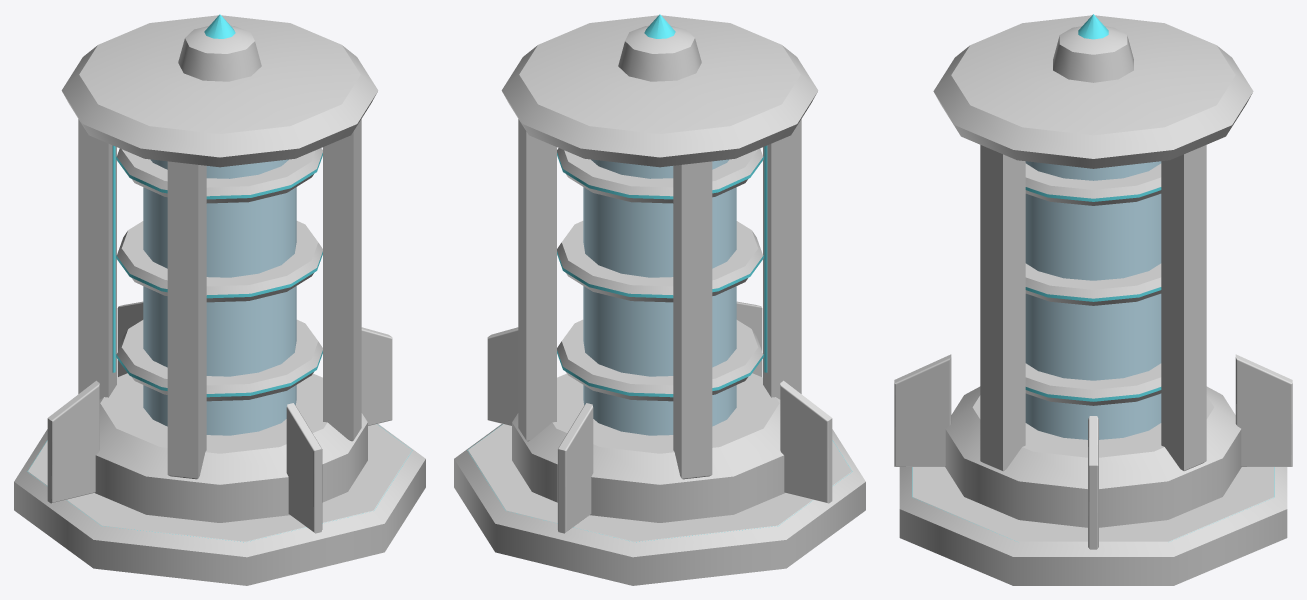
File: MiniReactor.glb
3 renders of one model, left to right at view 1: azimuth 30°, elevation 25°; view 2: azimuth 150°, elevation 25°; view 3: azimuth 270°, elevation 25°, orthographic.
Parts seen in each view (by area): view 1: Body, Glass, Glow; view 2: Body, Glass, Glow; view 3: Body, Glass, Glow.
Part boxes in pixels (box(x1,y1,x2,y2)): Body: box(14, 15, 425, 585); Glass: box(143, 159, 296, 435); Glow: box(27, 14, 412, 542); Body: box(454, 15, 865, 585); Glass: box(583, 159, 736, 435); Glow: box(467, 14, 852, 542); Body: box(894, 15, 1292, 585); Glass: box(1025, 161, 1161, 439); Glow: box(912, 14, 1274, 540).
Bounding box in the file's own units: 11.2 × 15.2 × 11.2.
